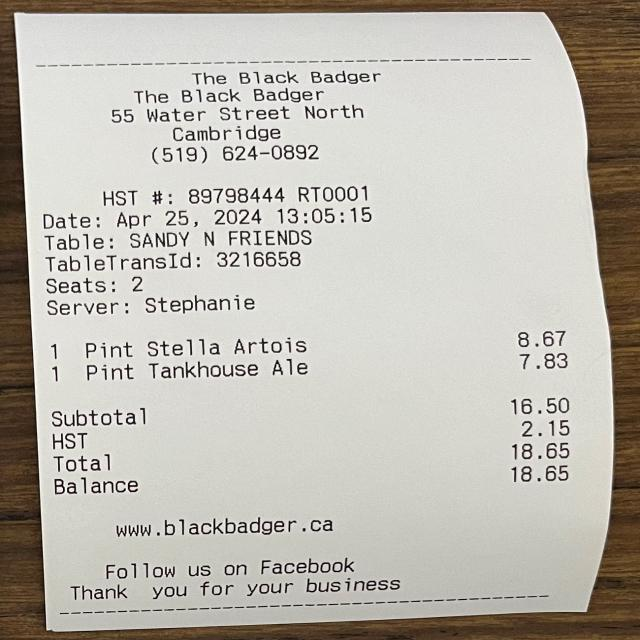item: (77, 325, 586, 360), (78, 350, 584, 382)
store_name: (184, 63, 396, 91)
total_amount: (48, 438, 581, 474)
transaction_date: (109, 202, 274, 232)
